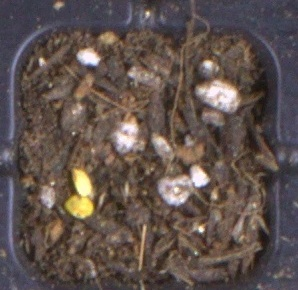chilli seed: (63, 193, 94, 219), (70, 167, 93, 198)
